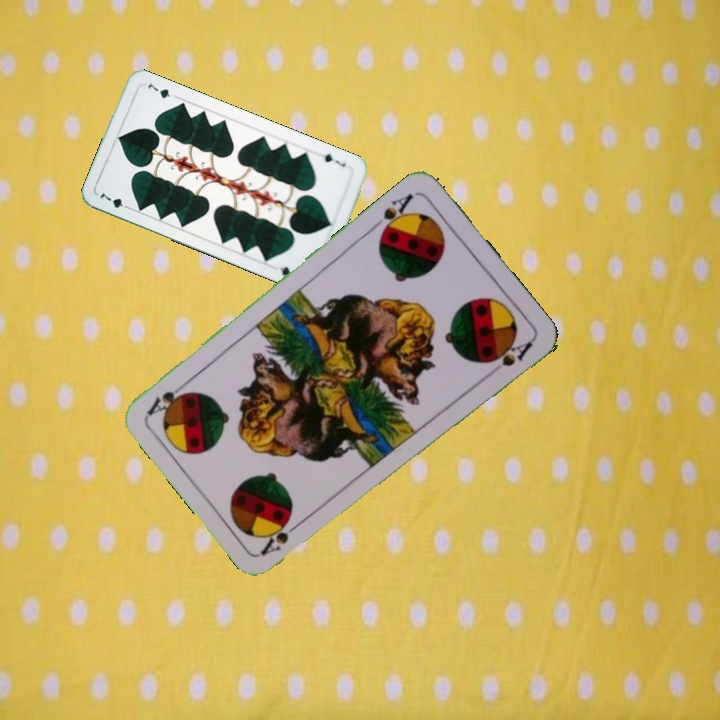G7: (96, 188, 134, 212), (319, 150, 348, 170)
SA: (257, 515, 307, 558), (376, 189, 416, 240)
